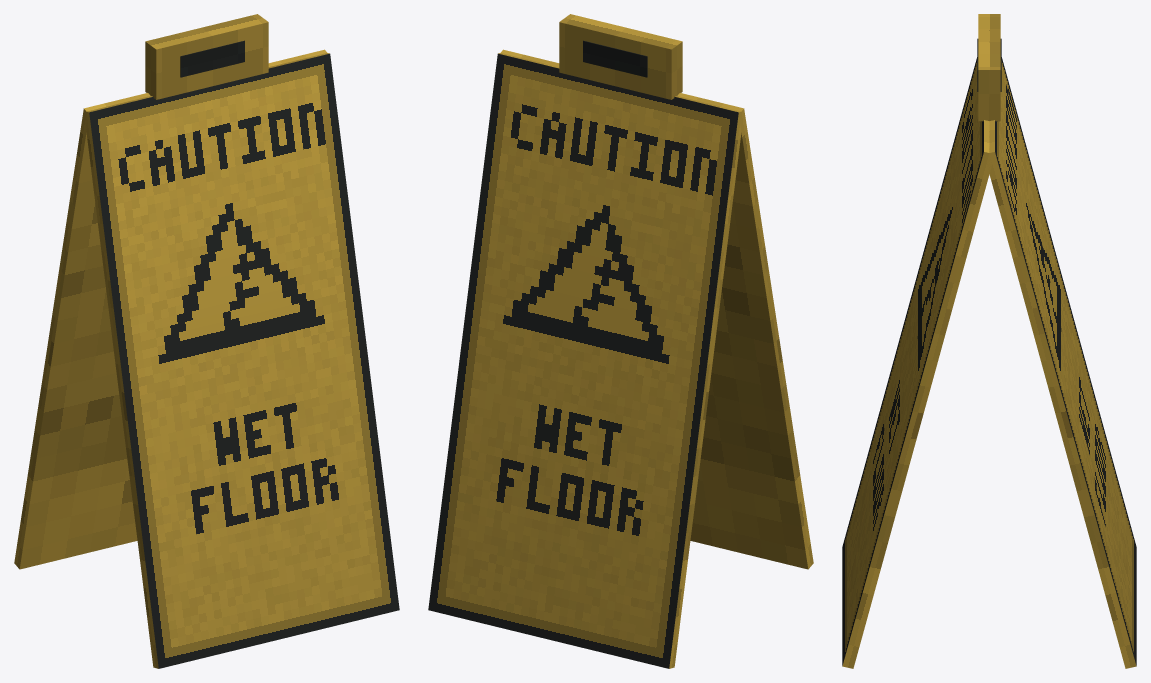
The model's file is wet_floor_sign.glb.
The picture shows the model from 3 angles, left to right: view 1: azimuth 30°, elevation 25°; view 2: azimuth 150°, elevation 25°; view 3: azimuth 270°, elevation 25°; orthographic projection.
Parts seen in each view (by area): view 1: WetFloorSign; view 2: WetFloorSign; view 3: WetFloorSign.
Part boxes in pixels (bbox=[...]): WetFloorSign: bbox=[14, 14, 399, 668]; WetFloorSign: bbox=[428, 14, 813, 668]; WetFloorSign: bbox=[842, 14, 1136, 668].
Size of the model in its own units: 0.3 by 0.663 by 0.3116.
3 materials, 3 textured.
